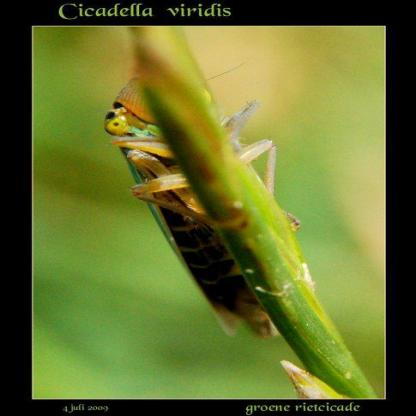Green-Leafhopper: (95, 54, 323, 345)
